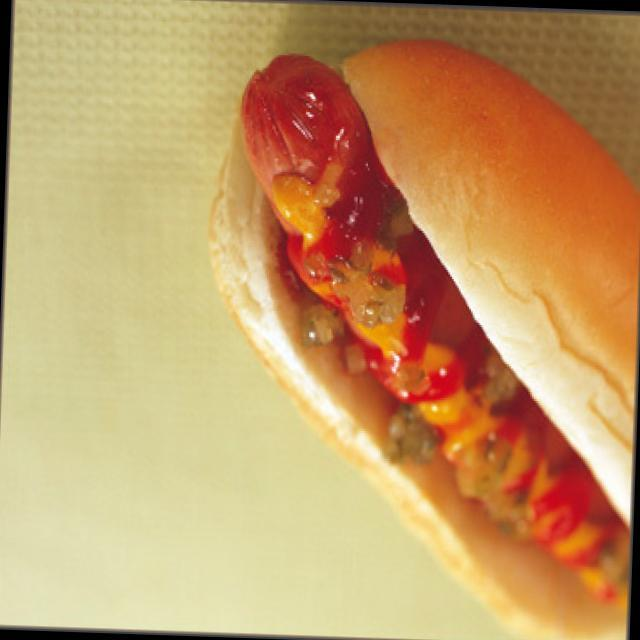Hot Dog: (176, 14, 640, 640)
